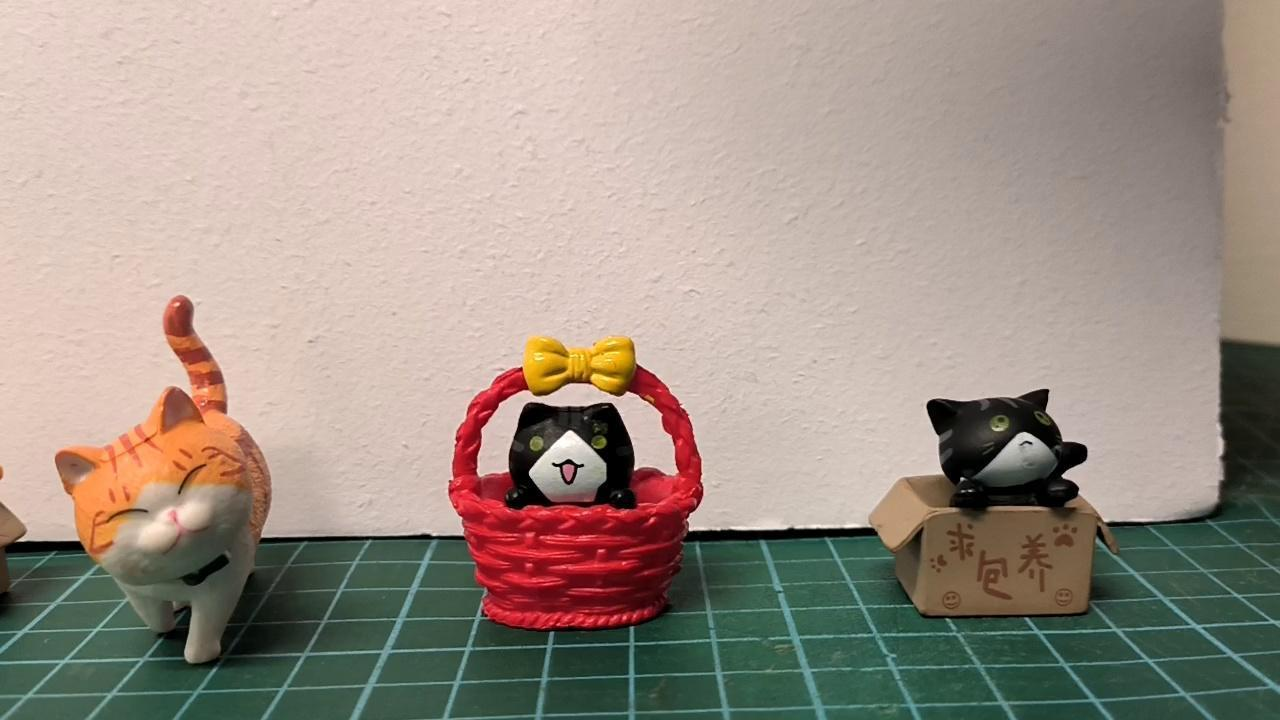pet: (57, 296, 276, 666), (921, 386, 1091, 511), (506, 398, 638, 514)
